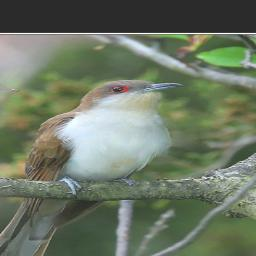Cuckoo: (0, 78, 185, 256)
